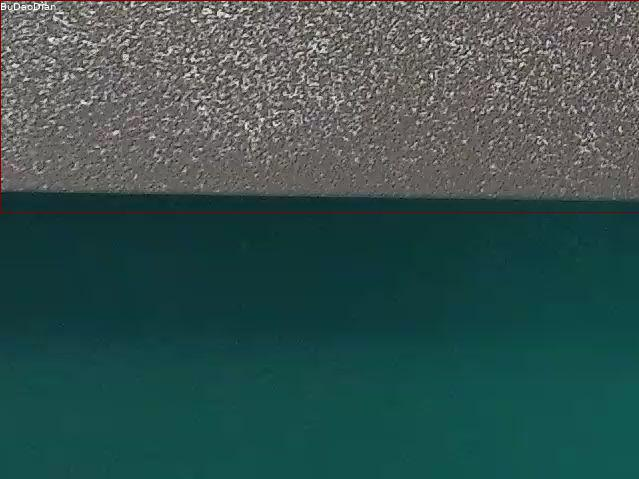BuDaoDian: (0, 0, 639, 212)
